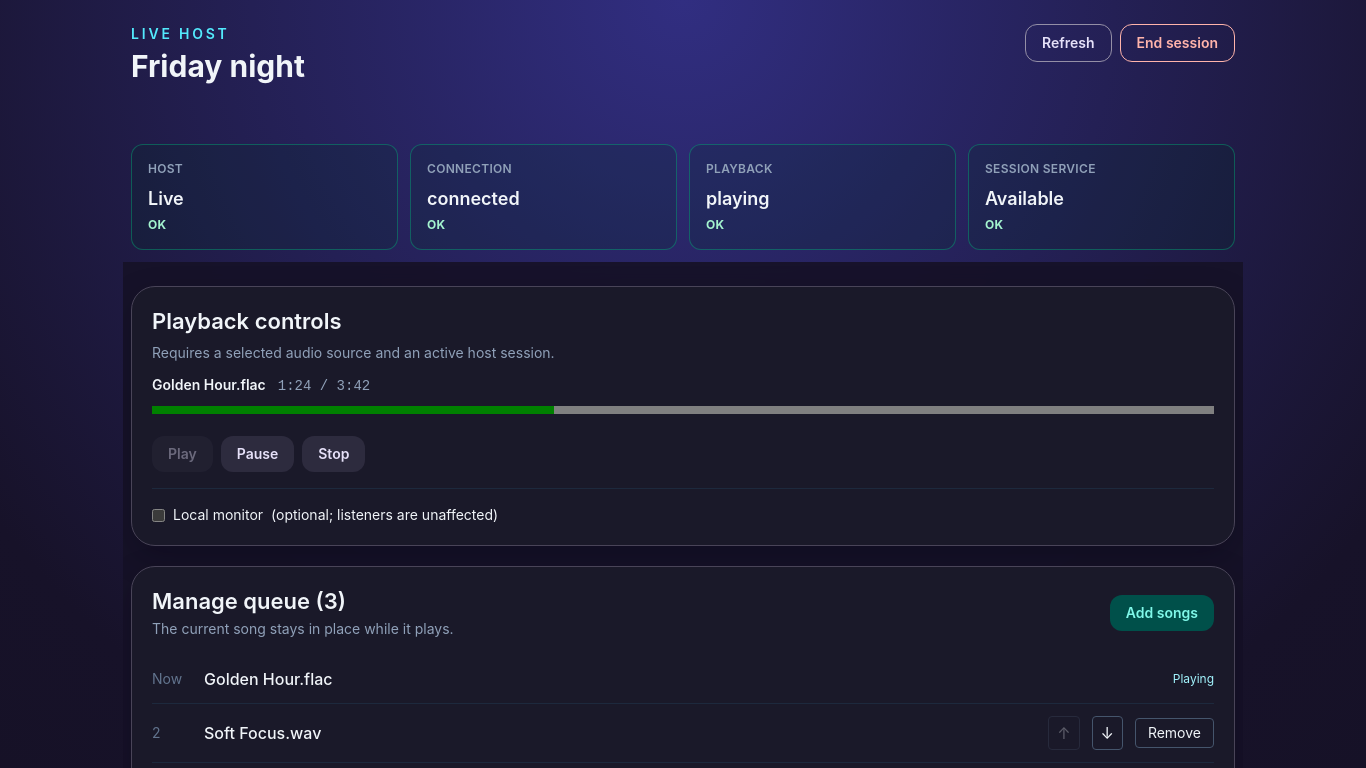
Test case: live dashboard accessibility semantics › names every primary action and exposes state changes through live regions
Expected: the message named "Now playing" is shown, [152,375,266,395]
Expected: the button "Play" is shown, [152,436,213,472]
Click the button "Refresh" at (1068, 43), box [1025,24,1112,62]
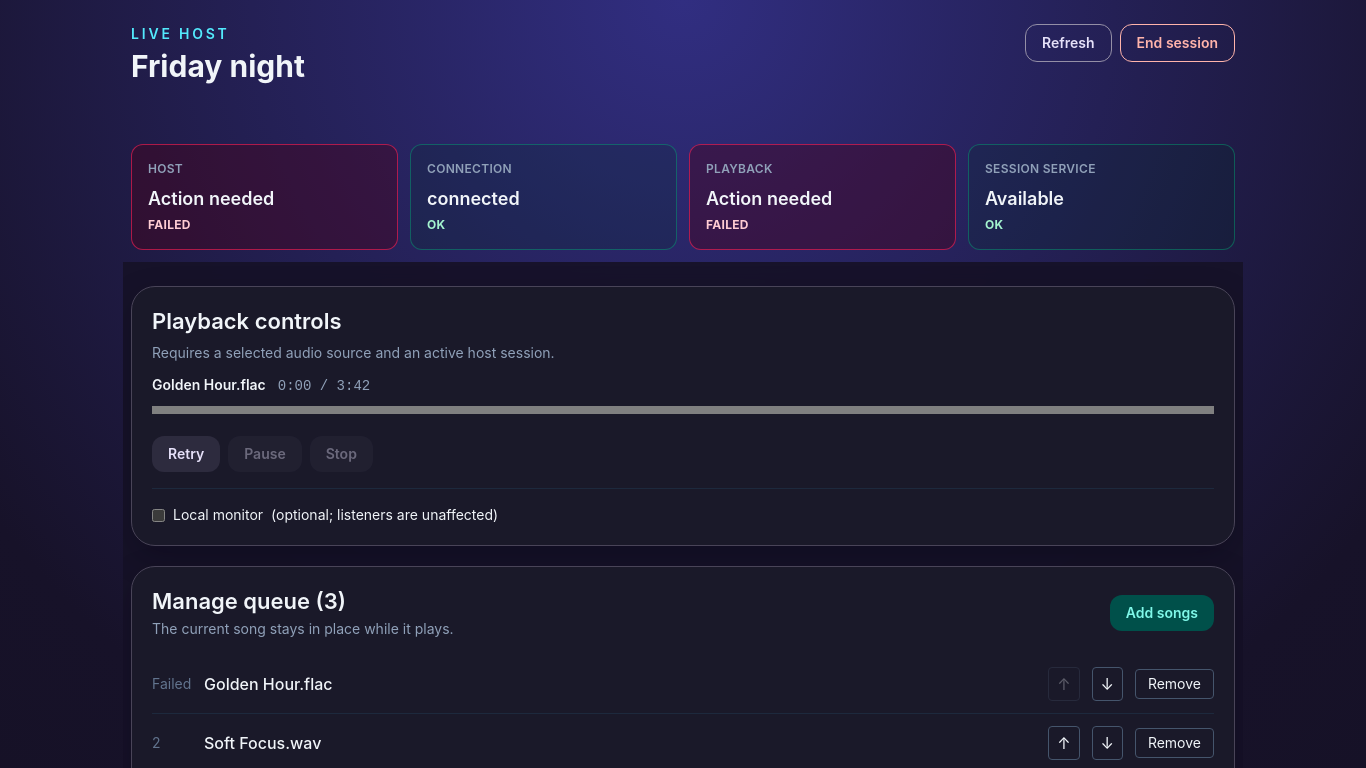
Expected: the text "Action needed" is shown 2 times, [148,188,274,209]; [706,188,832,209]
Expected: the button "Retry" is enabled, [152,436,220,472]
